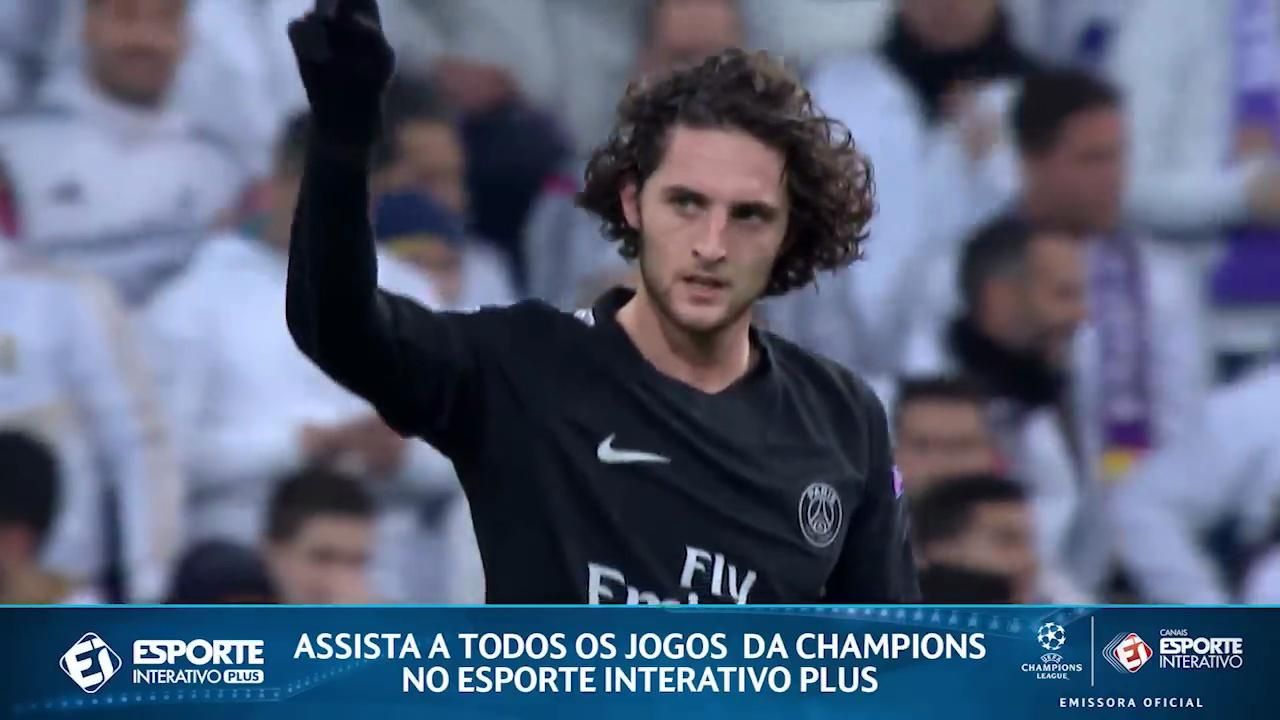player: (287, 0, 918, 603)
